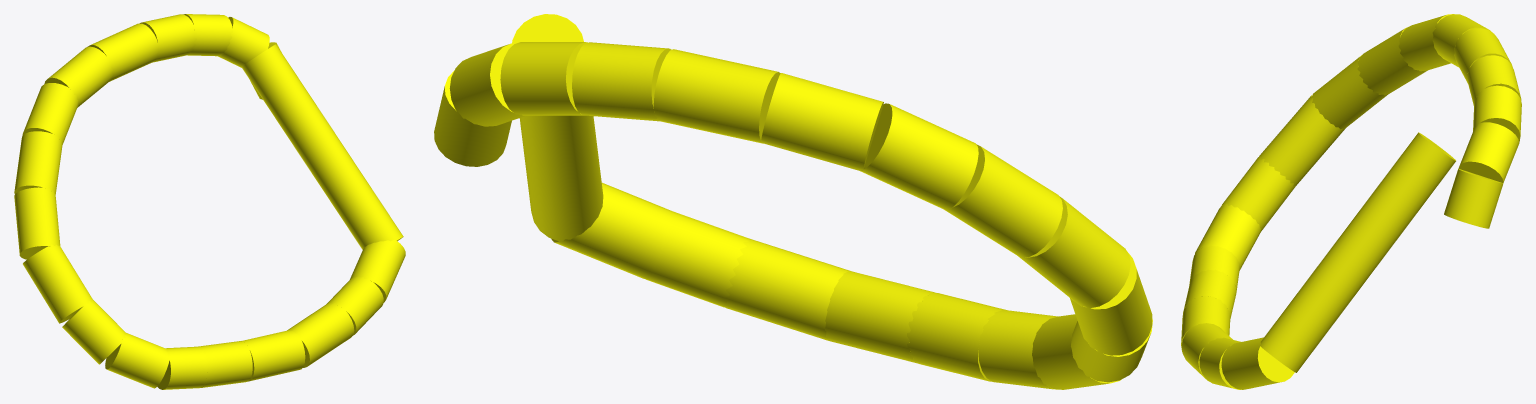
3 renders of one model, left to right at view 1: azimuth 30°, elevation 25°; view 2: azimuth 150°, elevation 25°; view 3: azimuth 270°, elevation 25°, orthographic. The views are drawn at different scales.
Visible parts, largest first — view 1: Cylinder(Clone) (×18); view 2: Cylinder(Clone) (×19); view 3: Cylinder(Clone) (×19).
Boxes of the visible parts, x1=… form: Cylinder(Clone) (×18): x1=14, y1=14, x2=405, y2=389; Cylinder(Clone) (×19): x1=434, y1=14, x2=1152, y2=389; Cylinder(Clone) (×19): x1=1181, y1=14, x2=1521, y2=389.
Bounding box in the file's own units: 0.0994 × 0.0689 × 0.0713.
